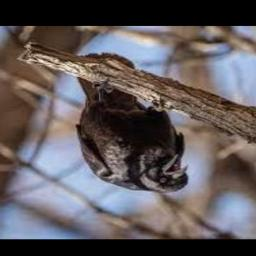Crow: (74, 53, 190, 193)
